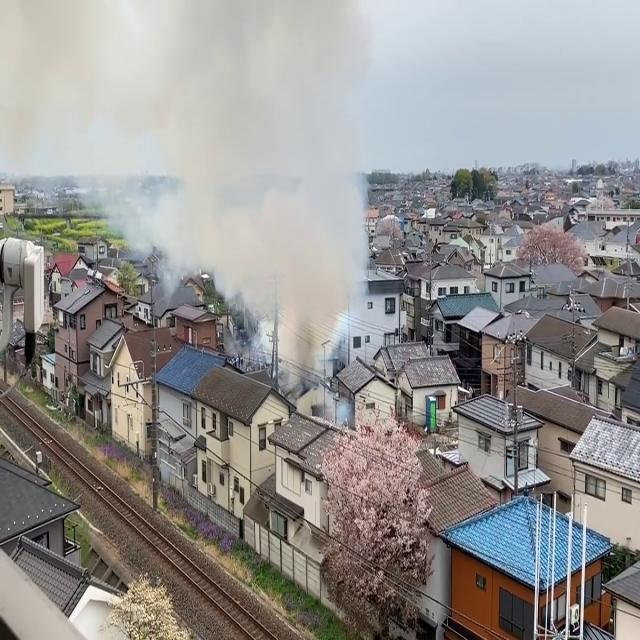Smoke: (1, 0, 378, 284), (0, 0, 252, 276), (240, 7, 378, 386)
